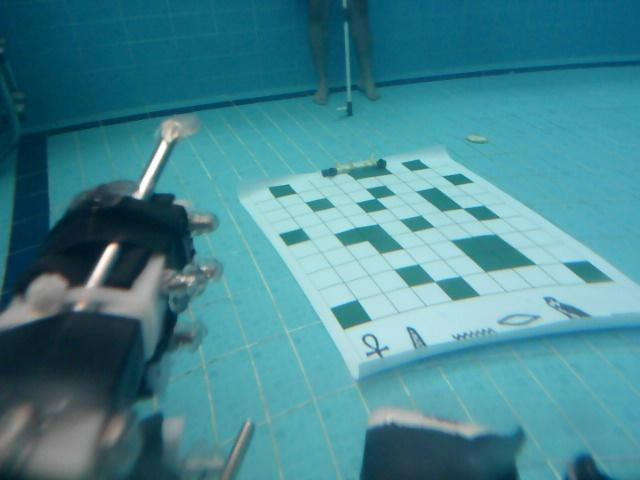Ankh: (358, 333, 391, 363)
Mouth: (496, 313, 540, 329)
Owl: (543, 295, 595, 322)
Reed: (404, 324, 430, 354)
Water: (450, 325, 496, 342)
